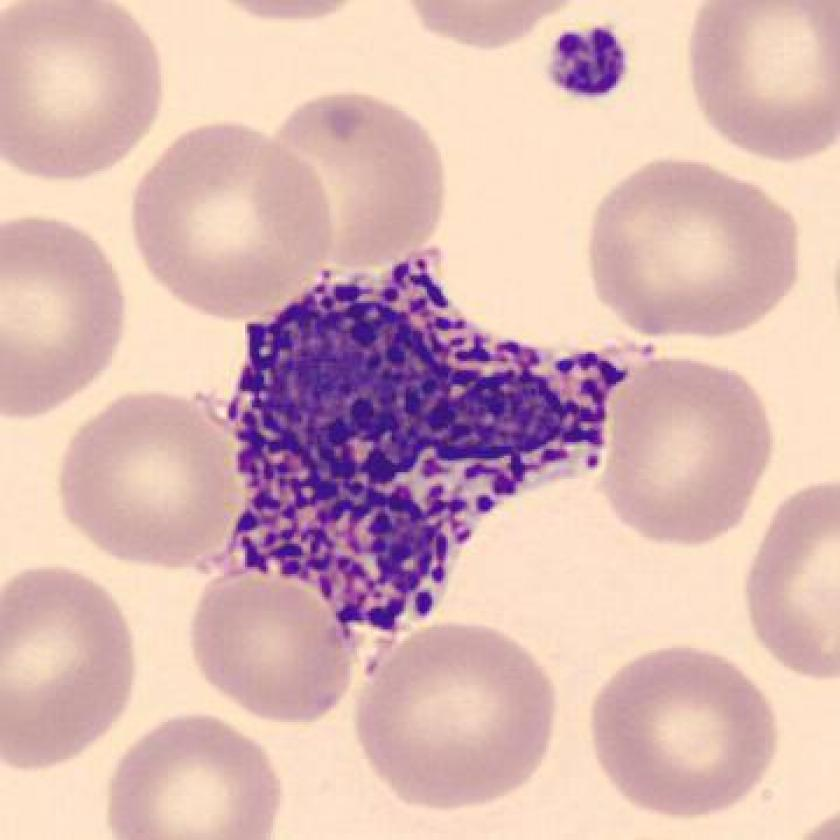basophil: (218, 254, 633, 631)
